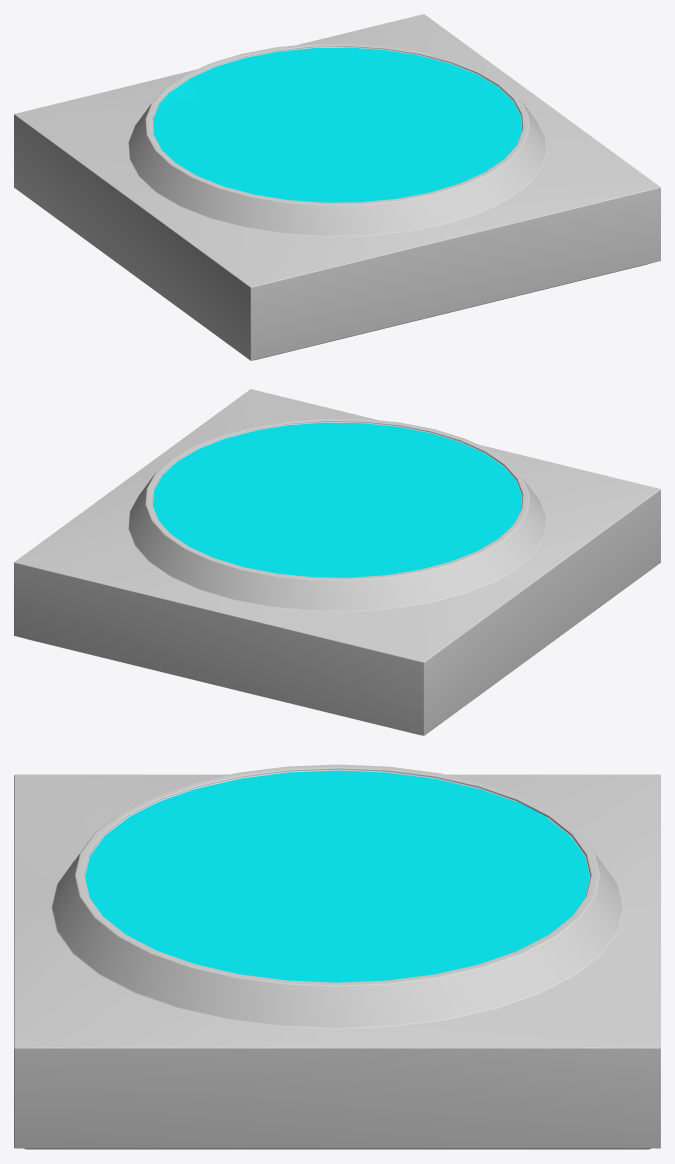
File: mix.gltf
3 renders of one model, top to bottom at view 1: azimuth 30°, elevation 25°; view 2: azimuth 150°, elevation 25°; view 3: azimuth 270°, elevation 25°, orthographic. The views are drawn at different scales.
Parts seen in each view (by area): view 1: M-1, M-2; view 2: M-1, M-2; view 3: M-1, M-2.
Part boxes in pixels (x1=…): M-1: x1=14, y1=14, x2=660, y2=360; M-2: x1=153, y1=47, x2=521, y2=202; M-1: x1=14, y1=389, x2=660, y2=735; M-2: x1=153, y1=422, x2=521, y2=577; M-1: x1=14, y1=764, x2=660, y2=1149; M-2: x1=85, y1=770, x2=589, y2=982.
Bounding box in the file's own units: 0.128 × 0.0312 × 0.128.
